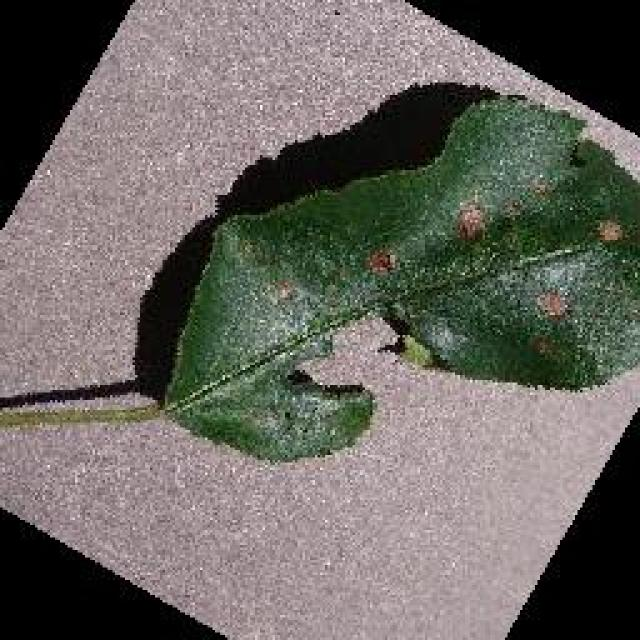Black_rot: (160, 92, 638, 462)
